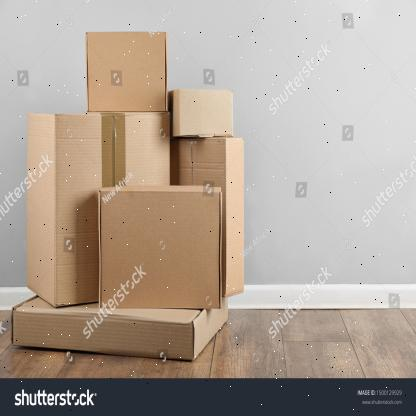box: (54, 112, 170, 311), (99, 190, 221, 311), (12, 311, 194, 363), (172, 136, 226, 299), (85, 31, 167, 112), (179, 91, 233, 136)
